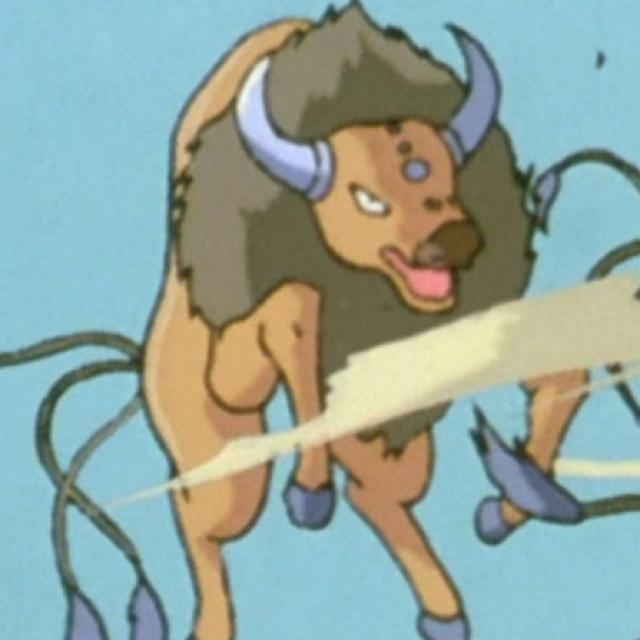Tauros: (157, 5, 546, 640)
